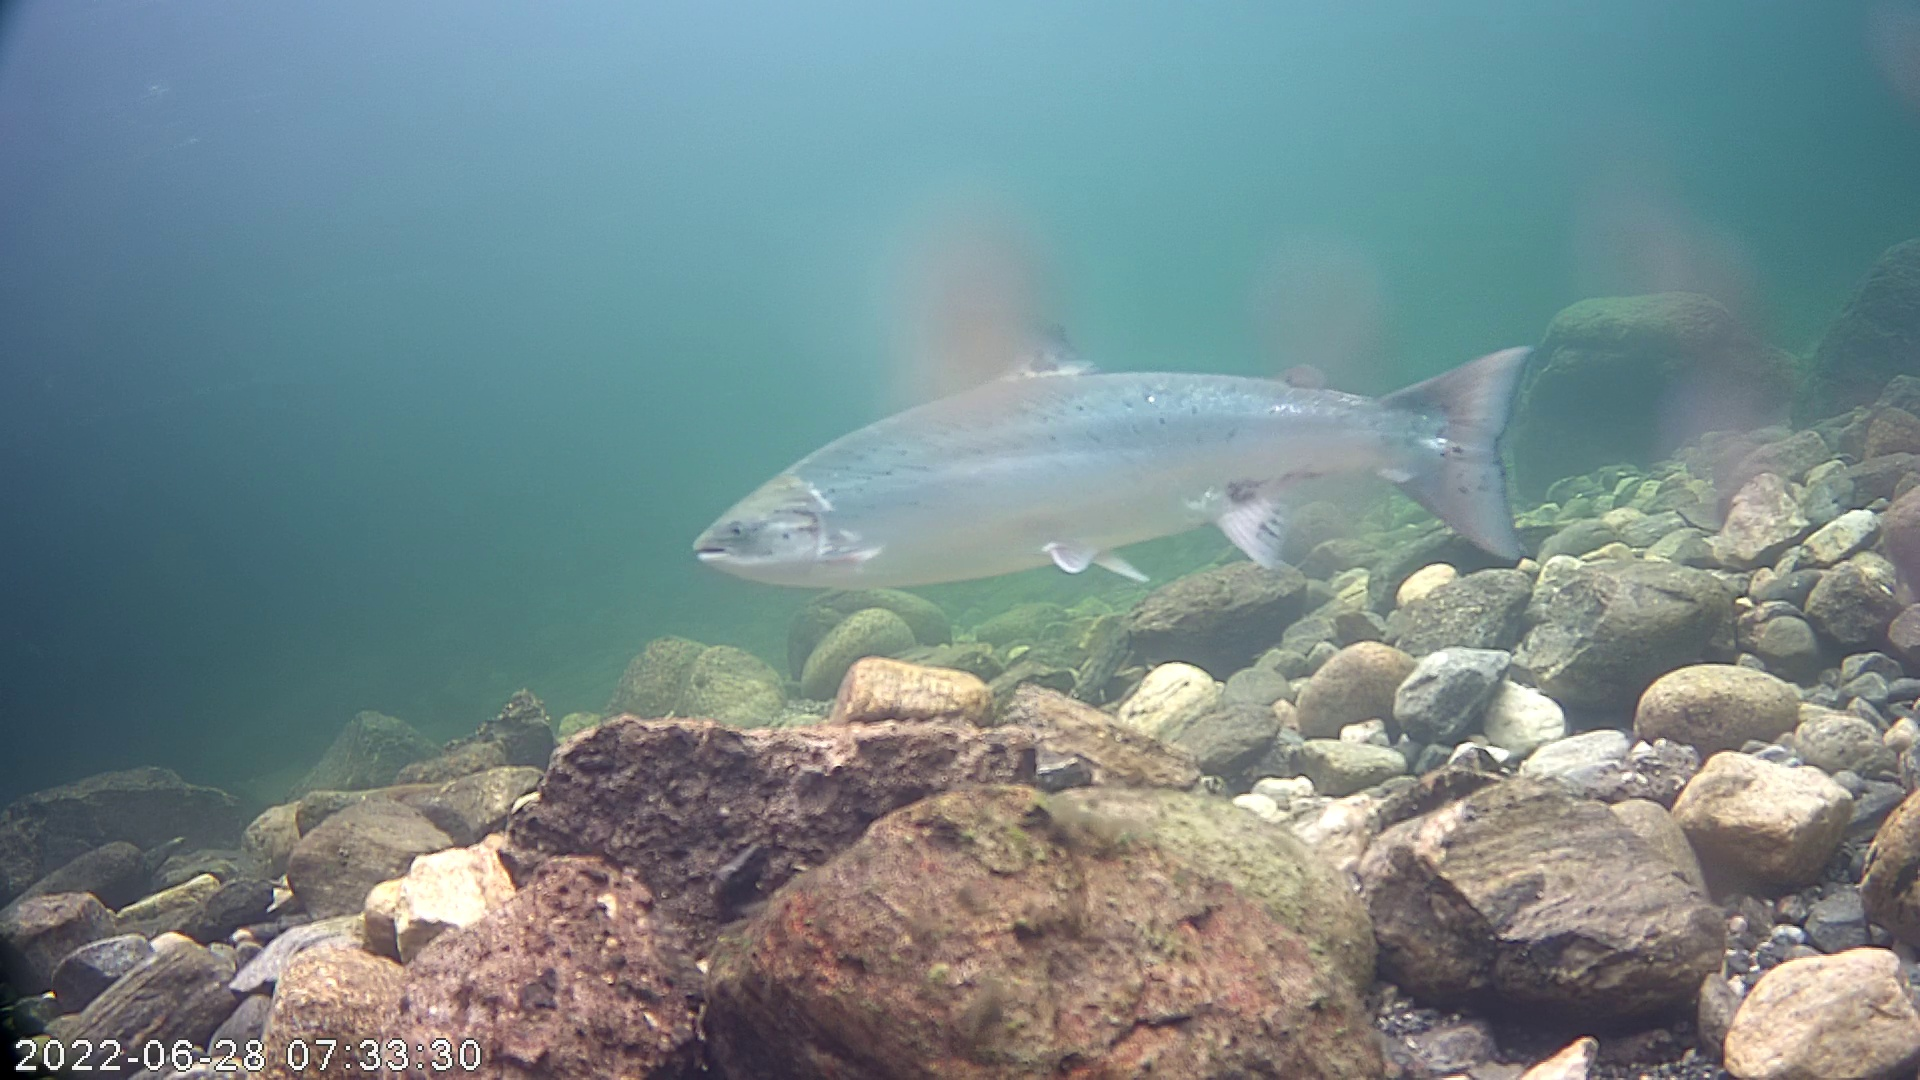salmon: (684, 218, 1572, 642)
